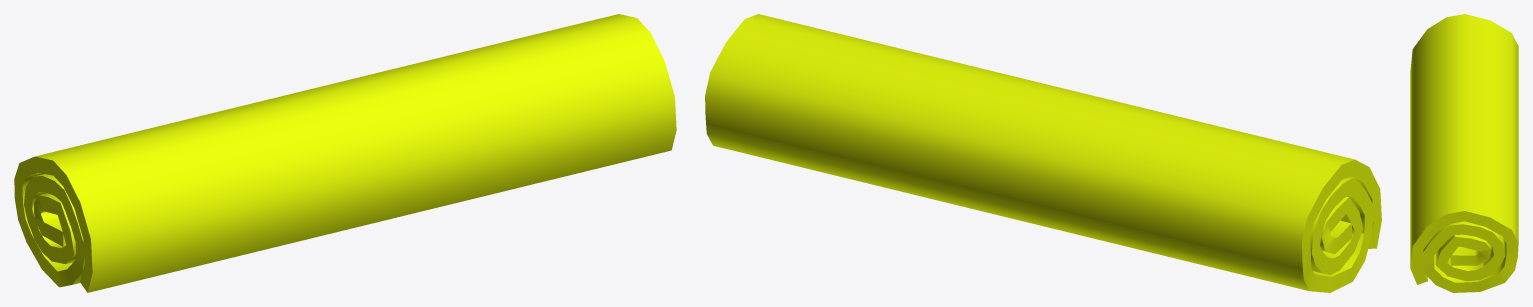
Rendered from Towel2.FBX.
3 views of the same model, side by side, from view 1: azimuth 30°, elevation 25°; view 2: azimuth 150°, elevation 25°; view 3: azimuth 270°, elevation 25° (orthographic). The views are drawn at different scales.
Visible parts, largest first — view 1: Line001; view 2: Line001; view 3: Line001.
Part boxes in pixels (left/top/right/bottom): Line001: left=14, top=14, right=676, bottom=292; Line001: left=705, top=14, right=1381, bottom=292; Line001: left=1410, top=14, right=1518, bottom=292.
Bounding box in the file's own units: 1.2 × 0.2332 × 0.276.
